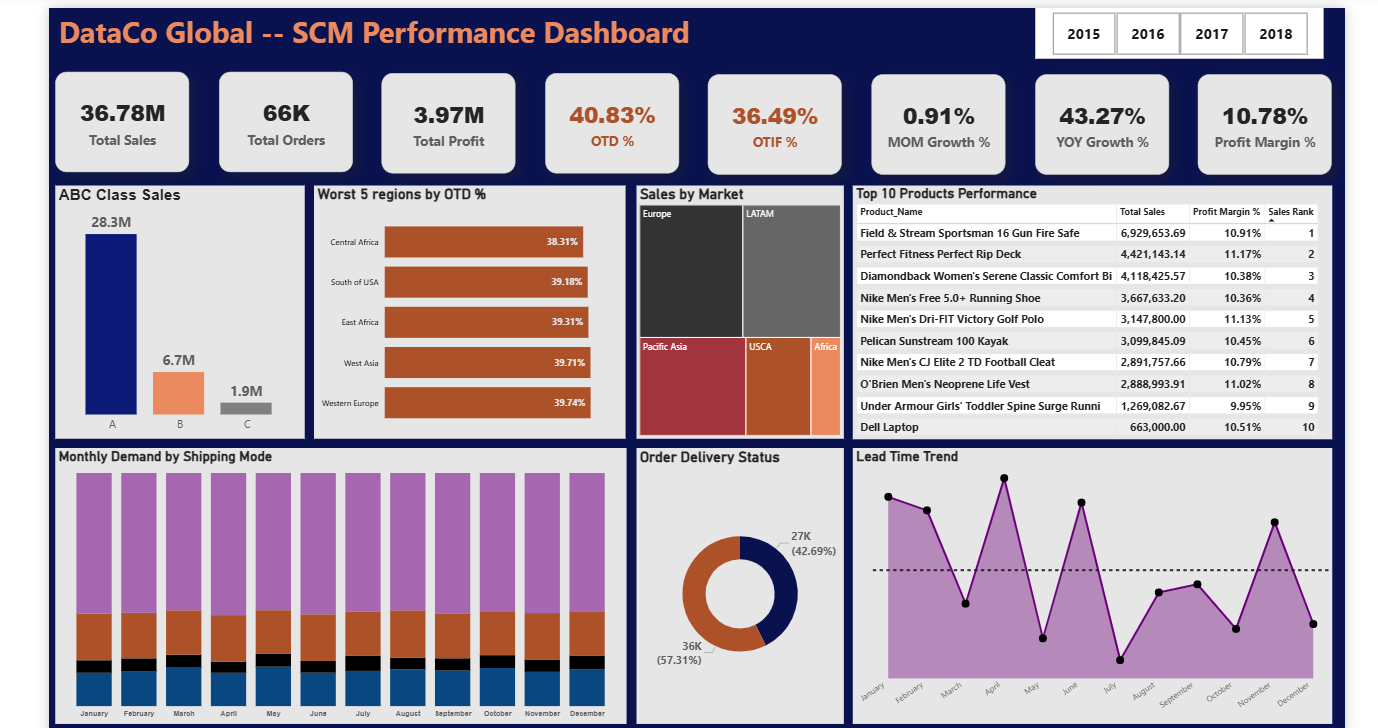

What the dashboard file says about the page in this screenshot:
{"tool":"powerbi","page":{"name":"Page 1","canvas":[1920,1080],"ordinal":0},"visuals":[{"type":"textbox","box":[9.2,0,1032.5,75.5],"z":0},{"type":"card","fields":{"Values":["Measure_Table.Total Orders"]},"box":[251.1,93.9,198.8,149.1],"z":1000},{"type":"card","fields":{"Values":["Measure_Table.OTD %"]},"box":[734.9,95.7,198.8,149.1],"z":2000},{"type":"card","fields":{"Values":["Measure_Table.Total Profit"]},"box":[493,95.7,198.8,149.1],"z":3000},{"type":"card","fields":{"Values":["Measure_Table.Total Sales"]},"box":[9.2,93.9,198.8,149.1],"z":4000},{"type":"card","fields":{"Values":["Measure_Table.OTIF %"]},"box":[976.8,97.5,198.8,149.1],"z":5000},{"type":"card","fields":{"Values":["Measure_Table.Profit Margin %"]},"box":[1702.5,97.5,198.8,149.1],"z":6000},{"type":"clusteredColumnChart","title":"ABC Class Sales","fields":{"Category":["Dim_Product.ABC Class"],"Y":["Measure_Table.Total Sales"]},"box":[9.2,263.2,369.9,375.5],"z":7000},{"type":"clusteredBarChart","title":"Worst 5 regions by OTD %","fields":{"Category":["Fact_Orders.Order_Region"],"Y":["Measure_Table.OTD %"]},"box":[393.4,263.2,462,375.5],"z":8000},{"type":"hundredPercentStackedColumnChart","title":"Monthly Demand by Shipping Mode","fields":{"Category":["Dim_Order_date.Date.Variation.Date Hierarchy.Month"],"Y":["Measure_Table.Total Orders"],"Series":["Dim_ShippingMode.Shipping_Mode"]},"box":[9.2,651.5,846.6,408.6],"z":9000},{"type":"donutChart","title":"Order Delivery Status","fields":{"Y":["Measure_Table.On time orders","Measure_Table.Late Orders"]},"box":[869.6,651.5,307.4,408.6],"z":10000},{"type":"card","fields":{"Values":["Measure_Table.MOM Growth %"]},"box":[1218.7,97.5,198.8,149.1],"z":11000},{"type":"card","fields":{"Values":["Measure_Table.YOY Growth %"]},"box":[1460.6,97.5,198.8,149.1],"z":12000},{"type":"tableEx","title":"Top 10 Products Performance","fields":{"Values":["Dim_Product.Product_Name","Measure_Table.Total Sales","Measure_Table.Profit Margin %","Measure_Table.Sales Rank"]},"box":[1191.2,263,710,376.4],"z":13000},{"type":"slicer","fields":{"Values":["Dim_Order_date.Year"]},"box":[1461.4,0,427,75.5],"z":14000},{"type":"treemap","title":"Sales by Market","fields":{"Group":["Dim_Market.Market"],"Values":["Measure_Table.Total Sales"]},"box":[869.6,263.2,307.4,375.5],"z":15000},{"type":"lineChart","title":"Lead Time Trend","fields":{"Y":["Measure_Table.Avg Lead Time"],"Category":["Dim_Order_date.Date.Variation.Date Hierarchy.Month"]},"box":[1190.8,651.5,710.4,408.6],"z":16000}]}

Visuals, with their boxes in screenshot pixels (x1, y1, x2, y2):
textbox: detection(42, 0, 754, 52)
card - Measure_Table.Total Orders: detection(209, 65, 346, 168)
card - Measure_Table.OTD %: detection(543, 66, 680, 169)
card - Measure_Table.Total Profit: detection(376, 66, 513, 169)
card - Measure_Table.Total Sales: detection(42, 65, 179, 168)
card - Measure_Table.OTIF %: detection(710, 67, 847, 170)
card - Measure_Table.Profit Margin %: detection(1210, 67, 1347, 170)
"ABC Class Sales" clusteredColumnChart: detection(42, 182, 297, 440)
"Worst 5 regions by OTD %" clusteredBarChart: detection(307, 182, 626, 440)
"Monthly Demand by Shipping Mode" hundredPercentStackedColumnChart: detection(42, 449, 626, 727)
"Order Delivery Status" donutChart: detection(636, 449, 848, 727)
card - Measure_Table.MOM Growth %: detection(876, 67, 1013, 170)
card - Measure_Table.YOY Growth %: detection(1043, 67, 1180, 170)
"Top 10 Products Performance" tableEx: detection(857, 181, 1347, 441)
slicer - Dim_Order_date.Year: detection(1044, 0, 1338, 52)
"Sales by Market" treemap: detection(636, 182, 848, 440)
"Lead Time Trend" lineChart: detection(857, 449, 1347, 727)
